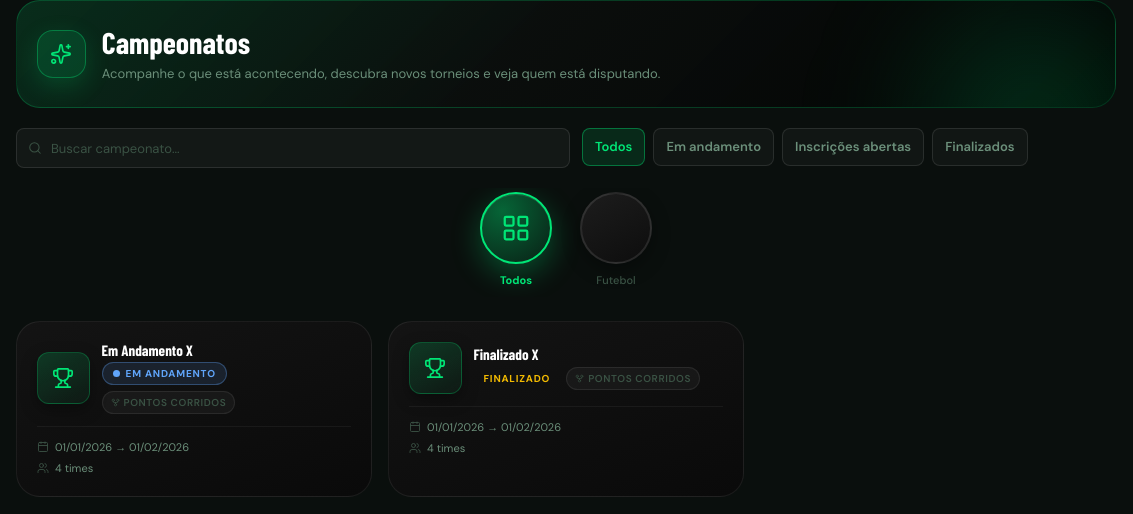
Test: /campeonatos: busca e filtros › filtra por status atraves das pilulas de filtro
This screenshot has width=1133, height=514.
expect the heading "Em Andamento X" is shown: met, box [102,340,193,358]
Click the button "Finalizados": (980, 147) [932,128,1028,166]
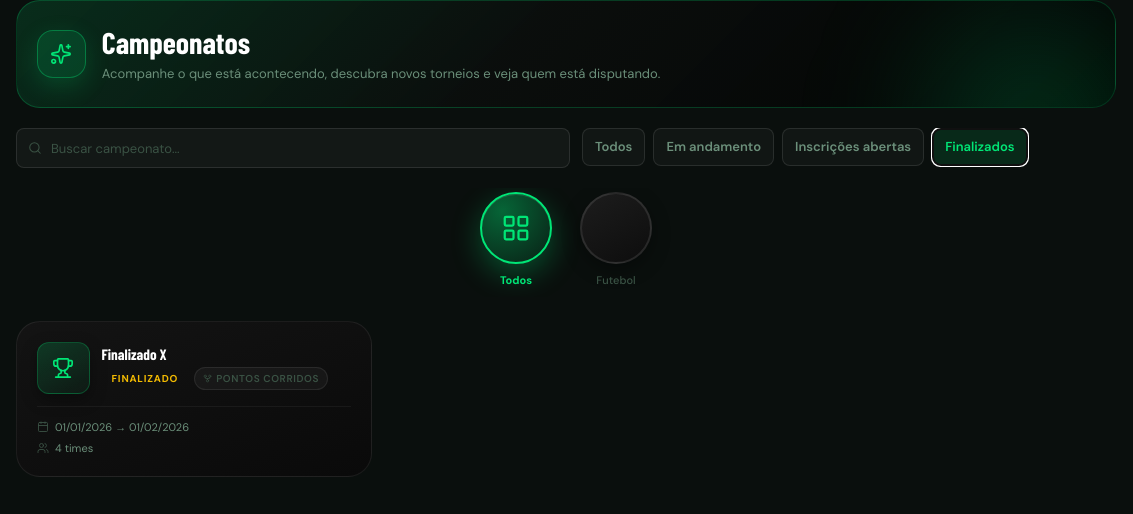
expect the heading "Finalizado X" is shown: met, box [102,345,167,363]
expect the link "Em Andamento X" is gone: met
